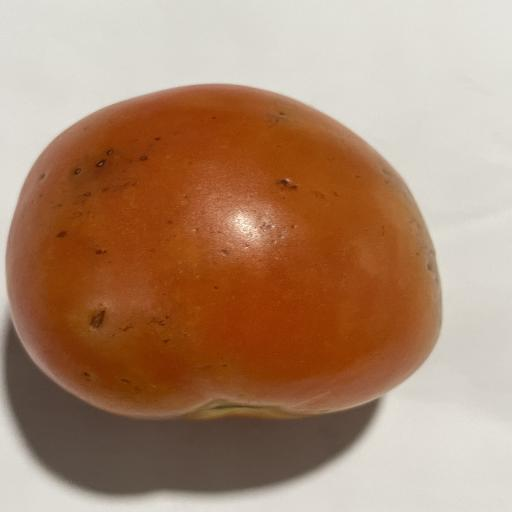ripe: (6, 84, 441, 419)
